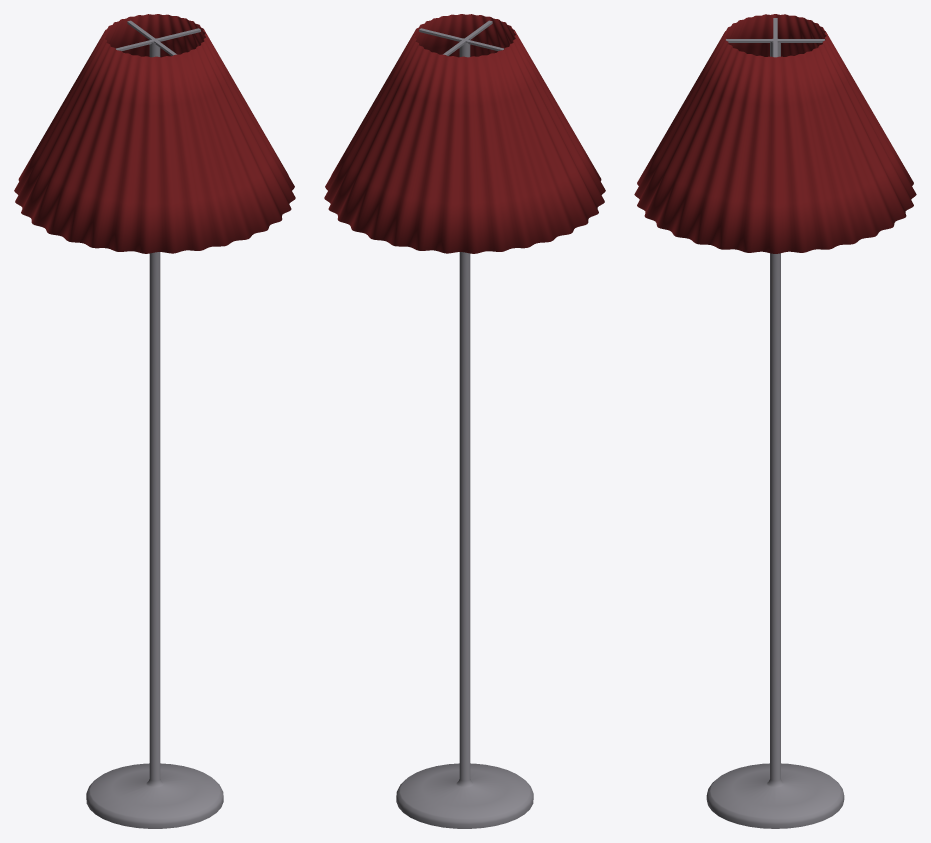
File: StandingLamp.fbx
The picture shows the model from 3 angles, left to right: view 1: azimuth 30°, elevation 25°; view 2: azimuth 150°, elevation 25°; view 3: azimuth 270°, elevation 25°; orthographic projection.
Visible parts, largest first — view 1: Shade, StandingLamp; view 2: Shade, StandingLamp; view 3: Shade, StandingLamp.
Boxes of the visible parts, bbox=[...] form: Shade: bbox=[14, 14, 295, 253]; StandingLamp: bbox=[86, 20, 223, 828]; Shade: bbox=[324, 14, 605, 253]; StandingLamp: bbox=[396, 20, 533, 828]; Shade: bbox=[634, 14, 916, 253]; StandingLamp: bbox=[706, 18, 844, 828].
Bounding box in the file's own units: 64.52 × 193 × 64.52.
